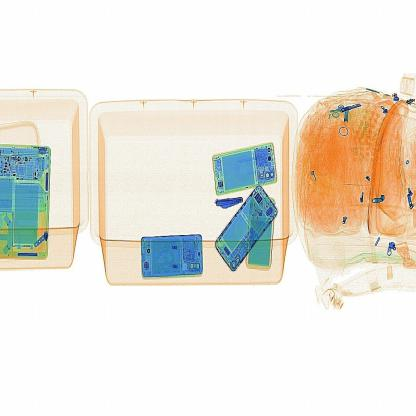knife: (208, 194, 252, 218)
